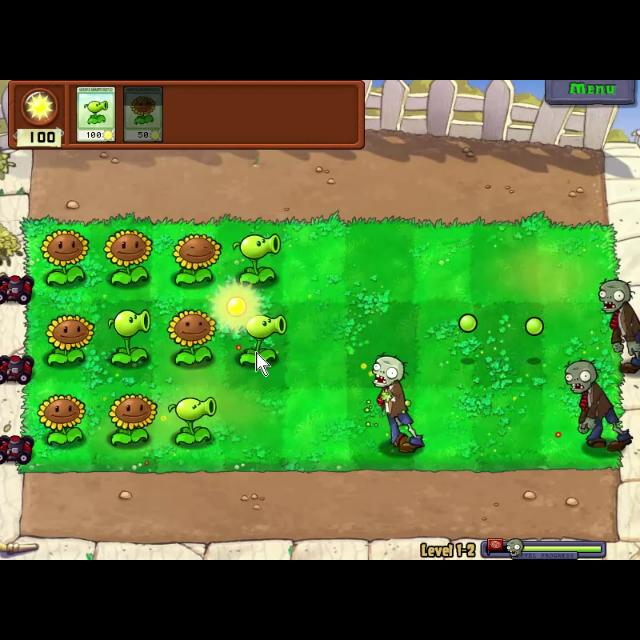Garden: (17, 215, 631, 475)
Menu Button: (544, 80, 638, 108)
Mower: (0, 268, 32, 304), (1, 353, 34, 387), (1, 434, 34, 464)
Peashooter: (74, 84, 116, 146)
Peashooter Seed: (234, 306, 286, 370), (102, 302, 152, 368), (231, 230, 283, 290), (164, 396, 220, 448)
Seed Panel: (7, 80, 370, 154)
Sun: (211, 282, 259, 331)
Sunflower: (122, 83, 164, 143)
Sunflower Seed: (100, 222, 154, 290), (162, 304, 218, 368), (37, 225, 89, 289), (33, 392, 89, 450), (167, 227, 220, 287), (42, 313, 96, 371), (106, 391, 160, 449)
Zombie: (562, 359, 632, 457), (367, 351, 429, 457), (596, 276, 640, 374)
